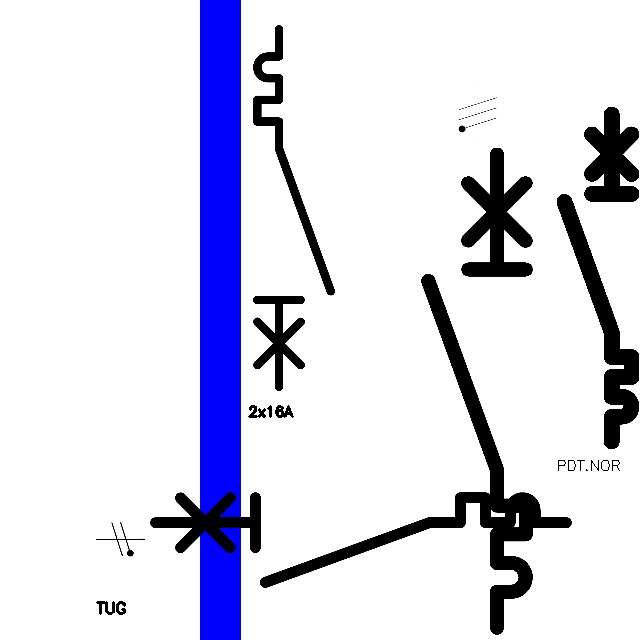interruptor_termomagnetico: (416, 142, 538, 639), (144, 487, 576, 592), (248, 20, 340, 396), (556, 106, 640, 450)
